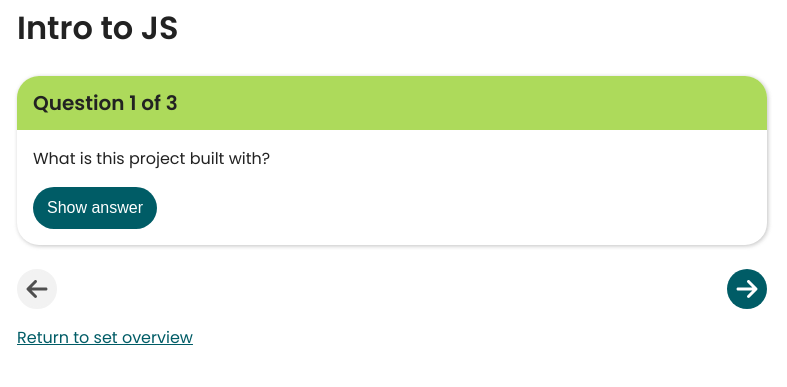
Test case: CardSet › Should have buttons to switch to the next and previous cards
The width and height of the screenshot is (787, 387).
Expected: the heading "Intro to JS" is shown, [17,5,179,50]
Expected: the button named "Previous question" is disabled, [17,269,57,309]
What coordinates should you click on to do the following:
click the button named "Next question"
I would click on:
 (747, 289)
Its box is [727,269,767,309].
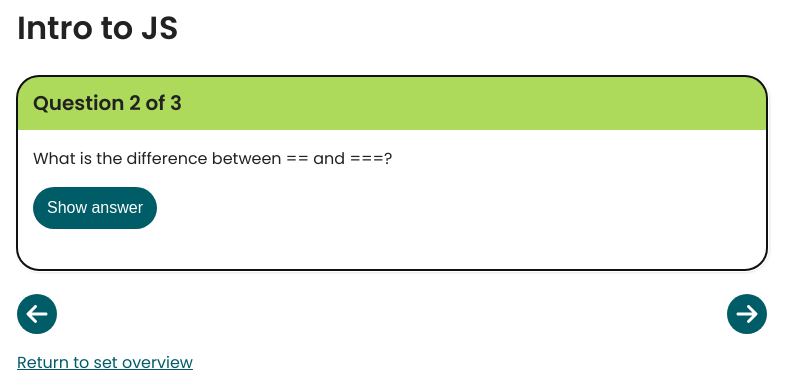
Now the text "What is the difference between == and ===?" is shown, box [33,147,392,170]
What coordinates should you click on to do the following:
click the button named "Next question"
I would click on:
 (747, 314)
Its box is [727,294,767,334].
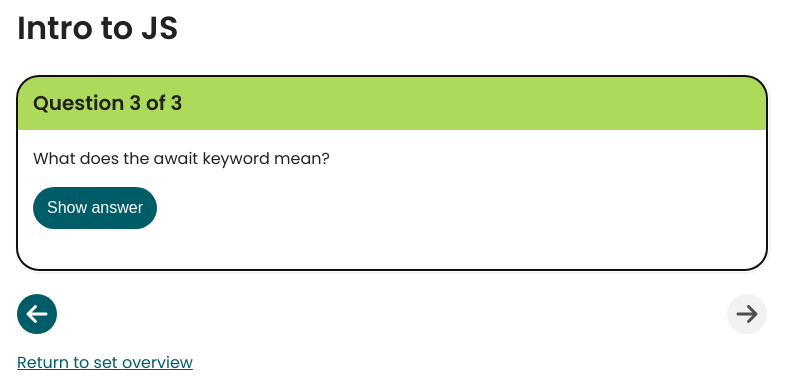
Now the text "What does the await keyword mean?" is shown, box [33,147,330,170]
Now the button named "Next question" is disabled, box [727,294,767,334]
What coordinates should you click on to do the following:
click the button named "Previous question"
I would click on:
 (37, 314)
Its box is [17,294,57,334].
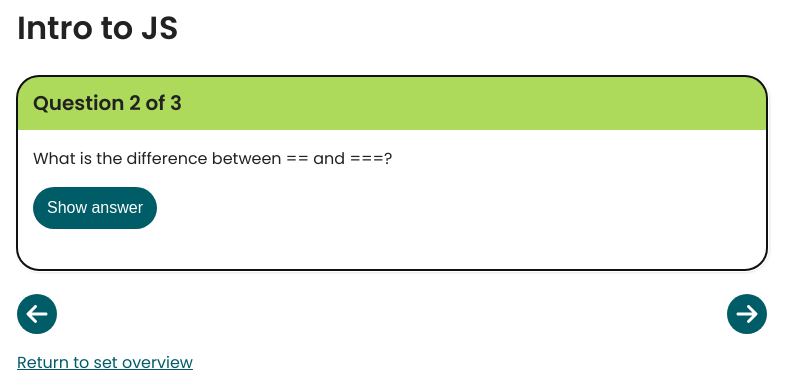
Now the button named "Previous question" is enabled, box [17,294,57,334]
Now the text "What is the difference between == and ===?" is shown, box [33,147,392,170]
Now the button named "Next question" is enabled, box [727,294,767,334]
